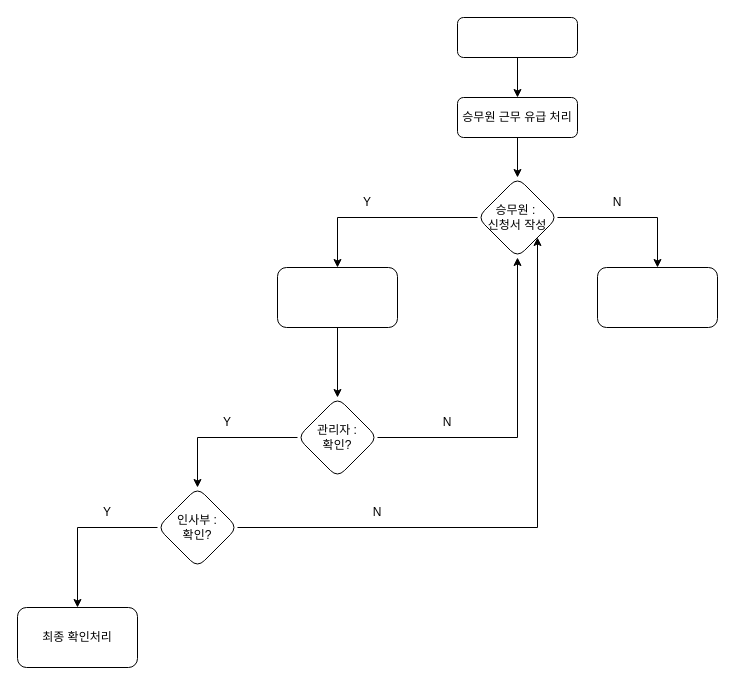
Some shapes in this 735 by 685 pixel diagram are drawn without their labels. Here are the shapes that lost their labels. From the top down, the centre of each, then its label:
[517,37]: 관리자 : 유급 처리
[337,297]: 승무원 앱 작성 완료
[657,297]: 승무원 앱 내에서 유급 사유서 작성 필요
